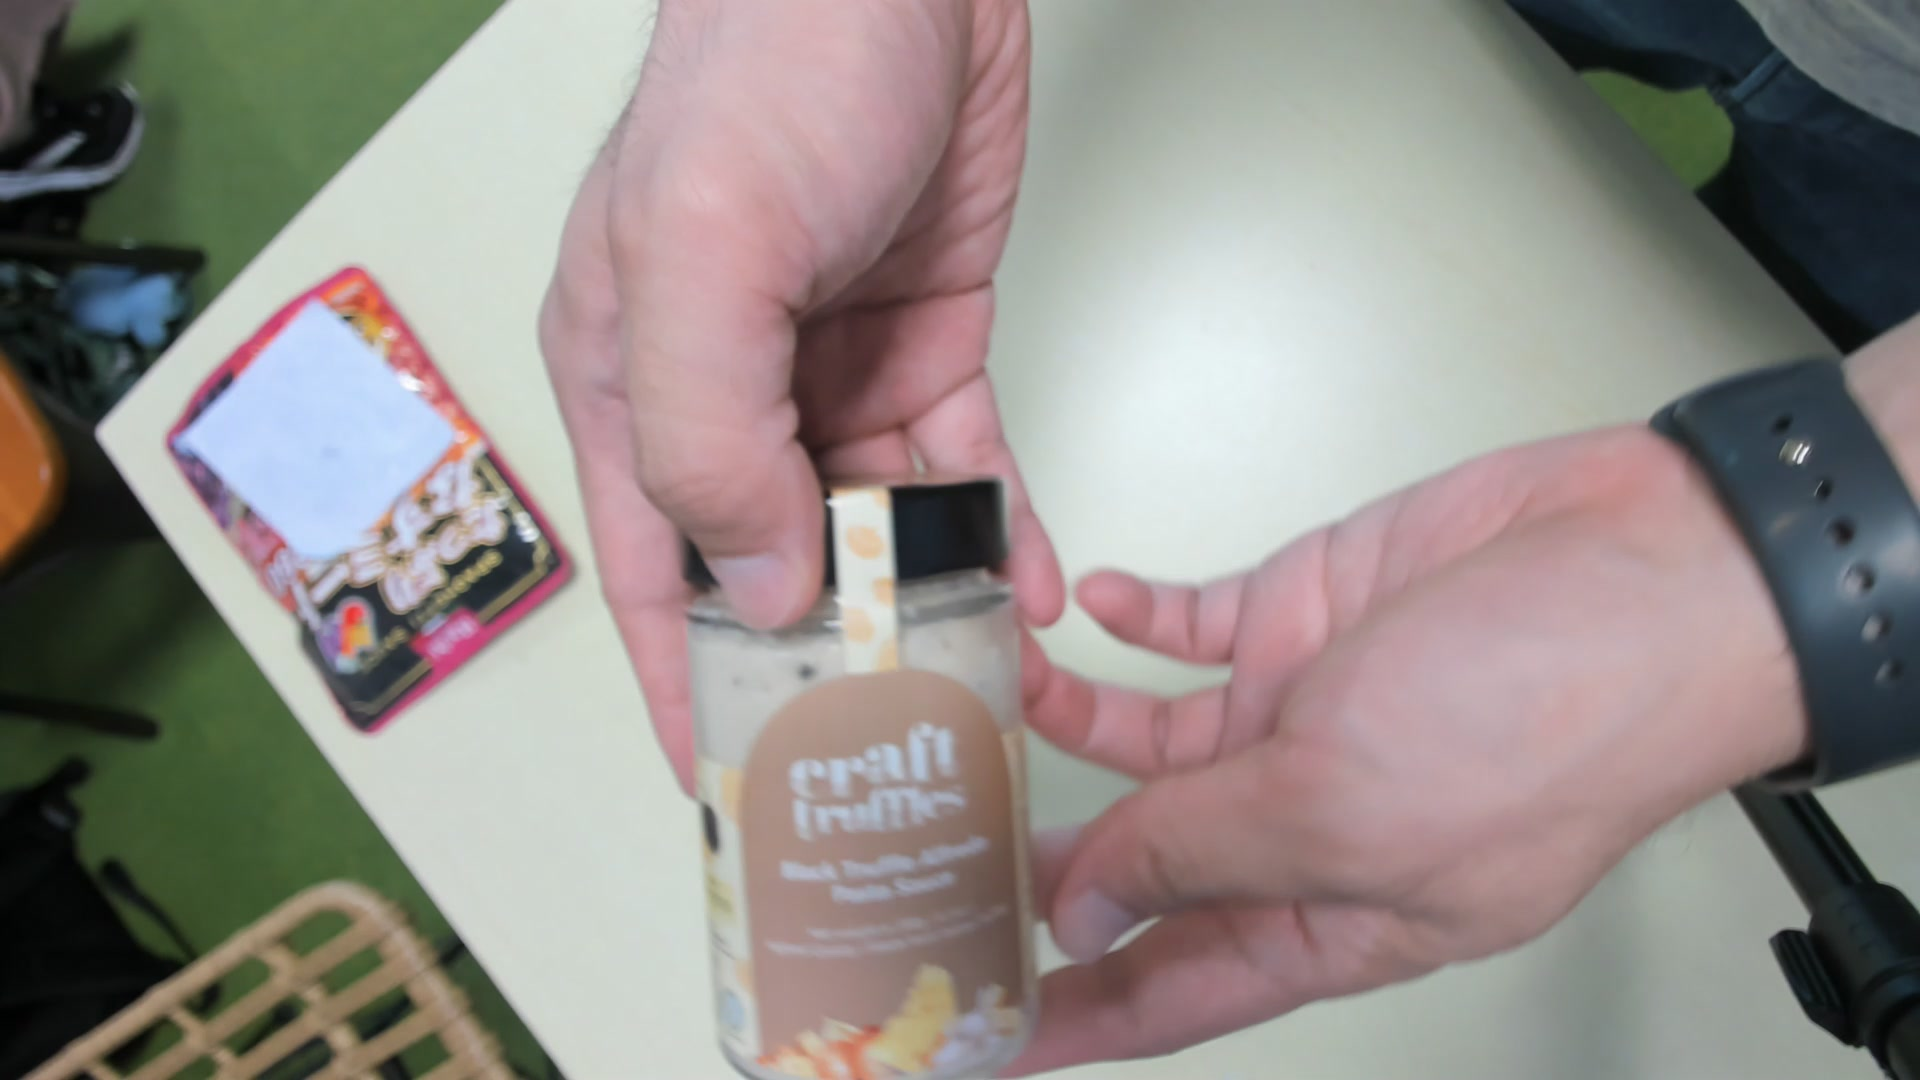PastaSauce_100-199g_Halal_NonHealthy: (671, 477, 1044, 1080)
